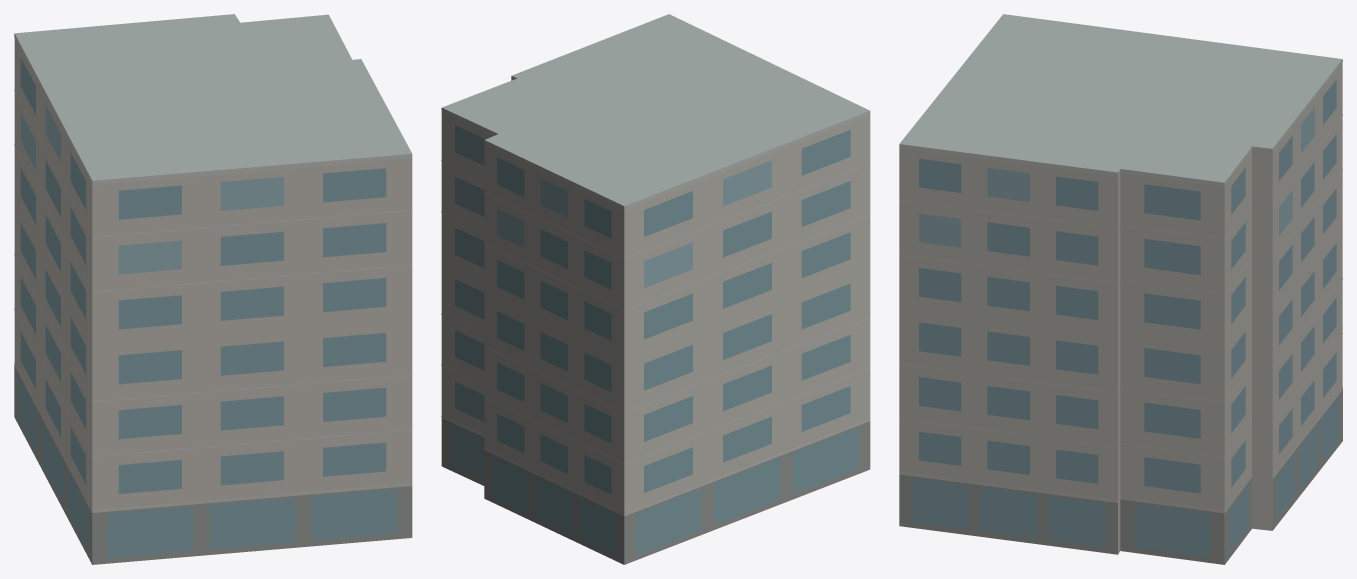
File: survey-upis-32529642.glb
3 renders of one model, left to right at view 1: azimuth 30°, elevation 25°; view 2: azimuth 150°, elevation 25°; view 3: azimuth 270°, elevation 25°, orthographic. The views are drawn at different scales.
Parts seen in each view (by area): view 1: survey-upis-32529642.tmp; view 2: survey-upis-32529642.tmp; view 3: survey-upis-32529642.tmp.
Part boxes in pixels (bbox=[...]): survey-upis-32529642.tmp: bbox=[14, 14, 412, 564]; survey-upis-32529642.tmp: bbox=[441, 14, 870, 564]; survey-upis-32529642.tmp: bbox=[899, 14, 1342, 564].
Bounding box in the file's own units: 20.34 × 21.44 × 22.58.
